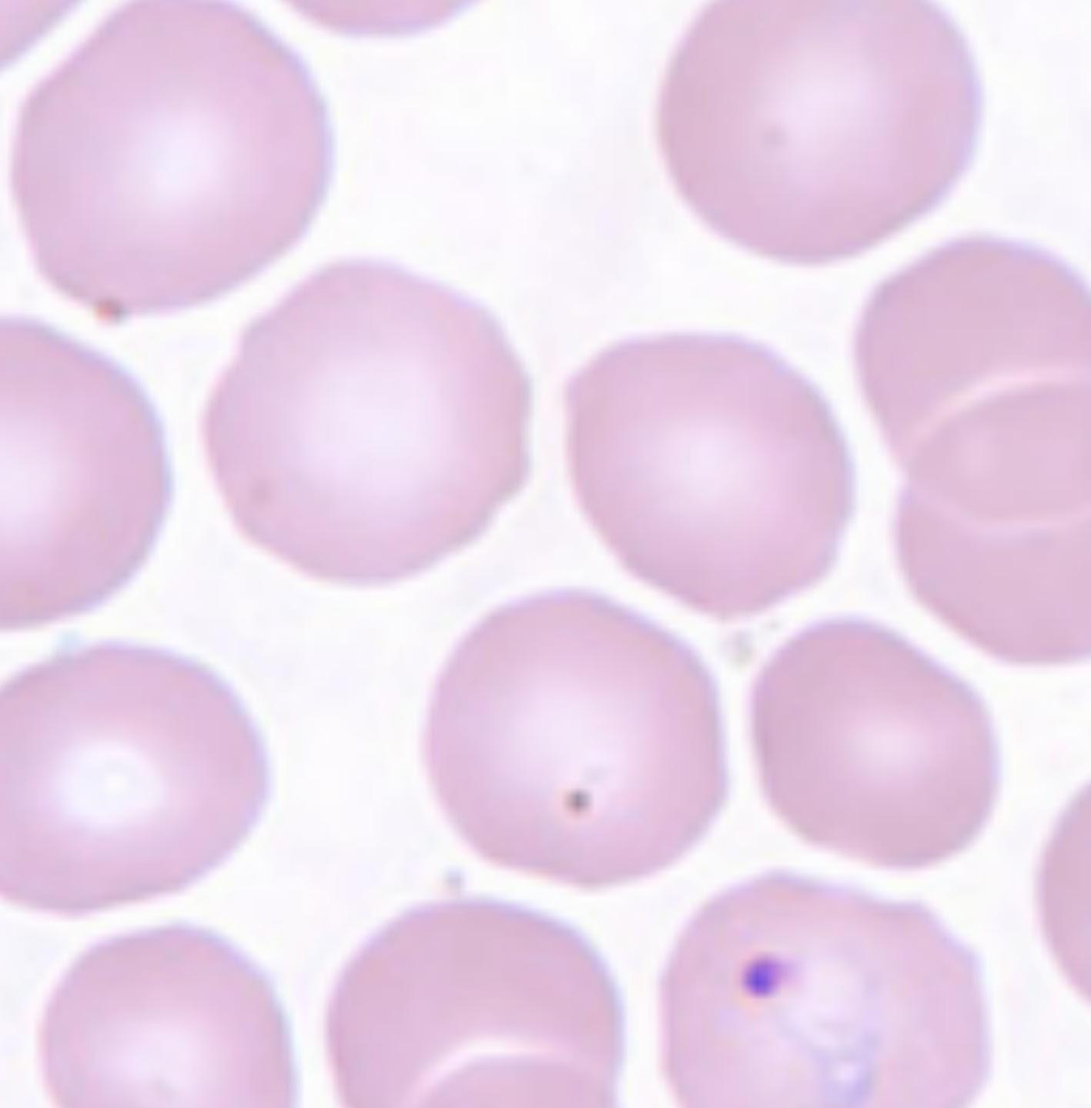Infected: (656, 868, 996, 1108)
Uninfected: (202, 260, 529, 586), (8, 2, 331, 317), (427, 587, 730, 888), (660, 0, 982, 259), (568, 331, 853, 616), (0, 639, 272, 910), (855, 235, 1091, 525), (331, 899, 626, 1108), (753, 618, 1002, 865), (893, 377, 1091, 660), (0, 324, 175, 637), (37, 922, 295, 1108)
